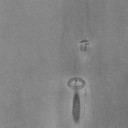slag inclusion: (67, 77, 85, 121), (78, 39, 89, 51)
